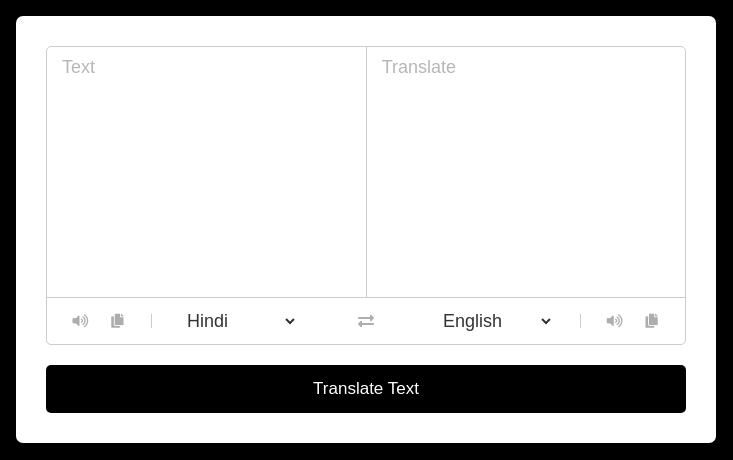
Test: Translation App Tests › should translate text when translate button is clicked
The image size is (733, 460).
Type "Hello" into the text box with class "from-text" at (207, 172), box [47,47,366,297]
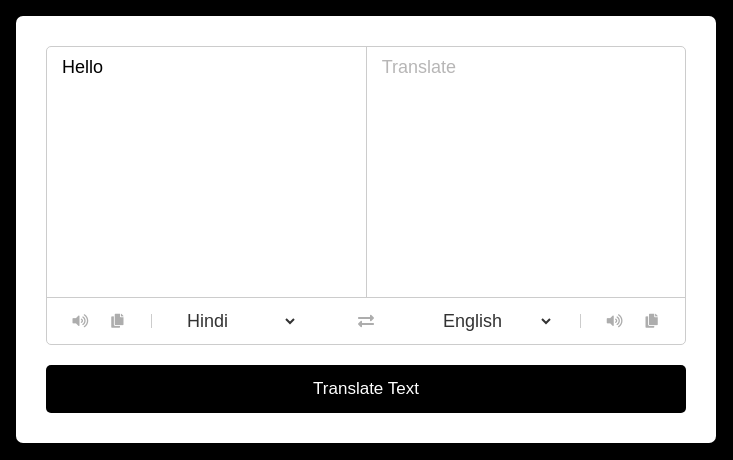
Click the button with class "translate-button" at (366, 389), box [46,365,686,413]
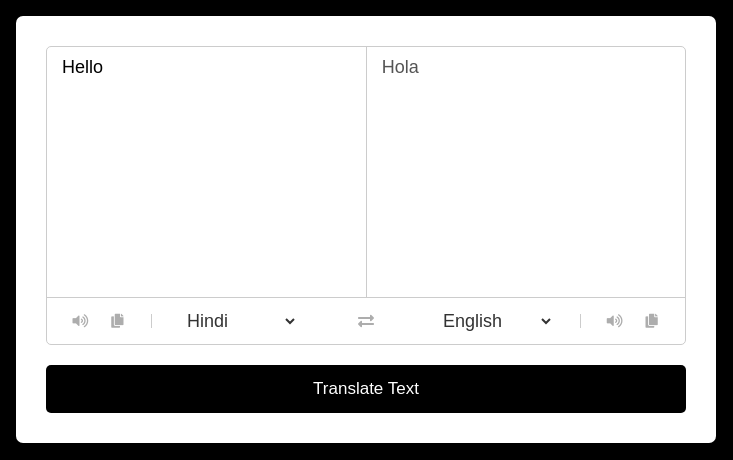
Result: the text box with class "to-text" holds "Hola" at [366,47,685,297]
